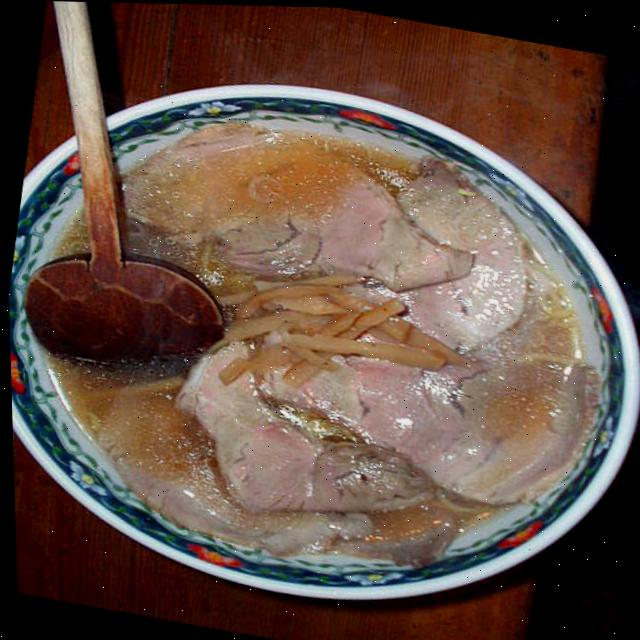面条主食: (1, 25, 640, 640)
